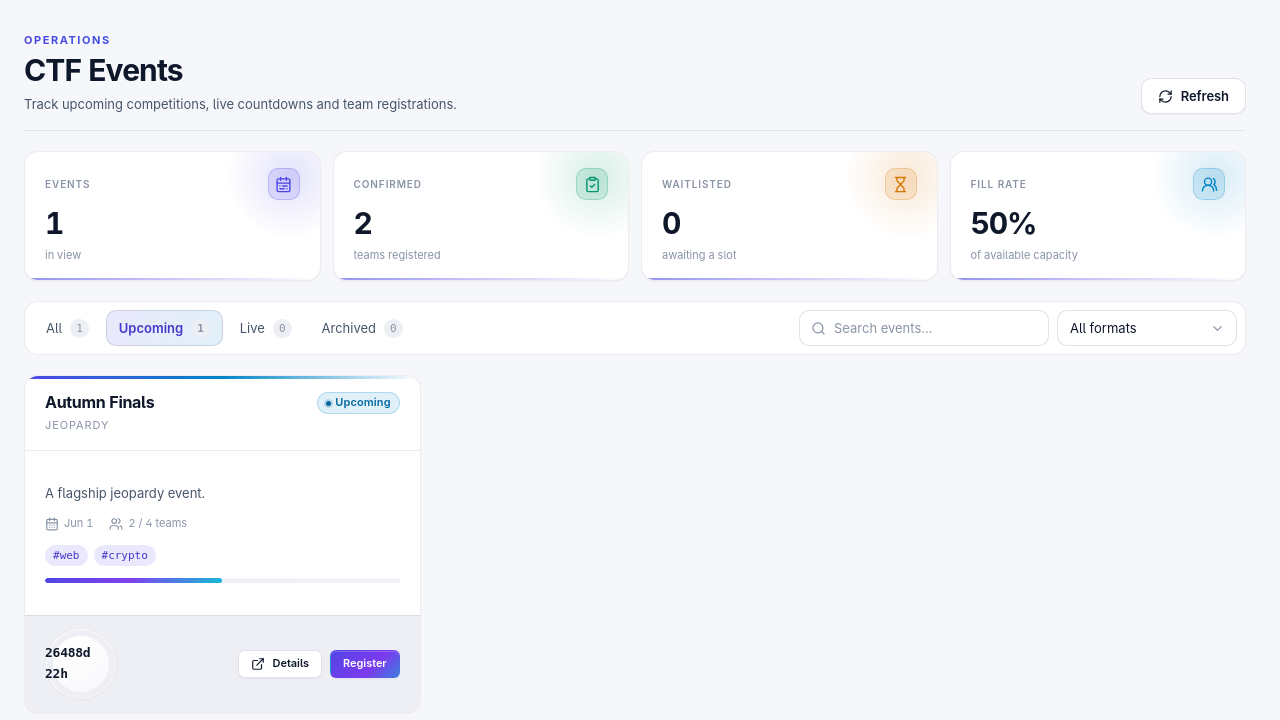
Test: EventsPage › opens the detail drawer with the event checklist
Expected: the heading "Autumn Finals" is shown, [45,392,154,413]
Click the button "Details" at (280, 664), box [238,650,322,678]
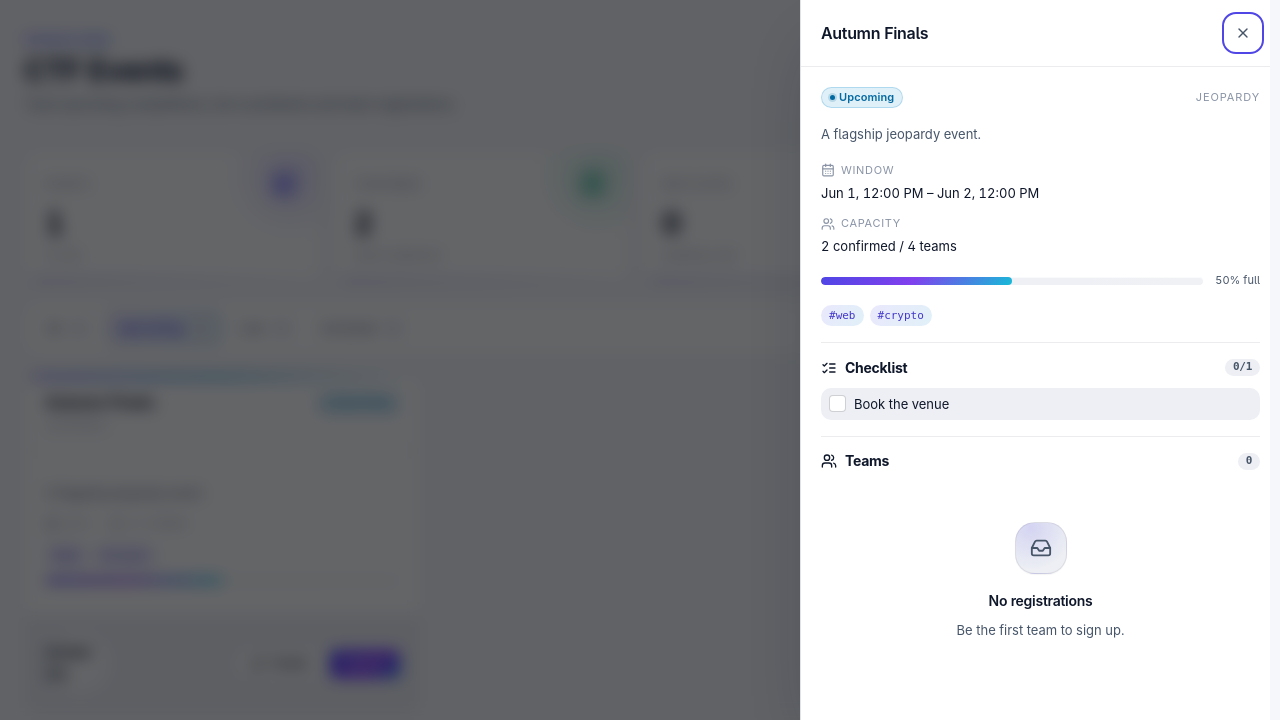
Result: the text "Book the venue" is shown at [854,394,949,414]
Result: the checkbox labelled "Book the venue" is shown at [829,394,949,414]
